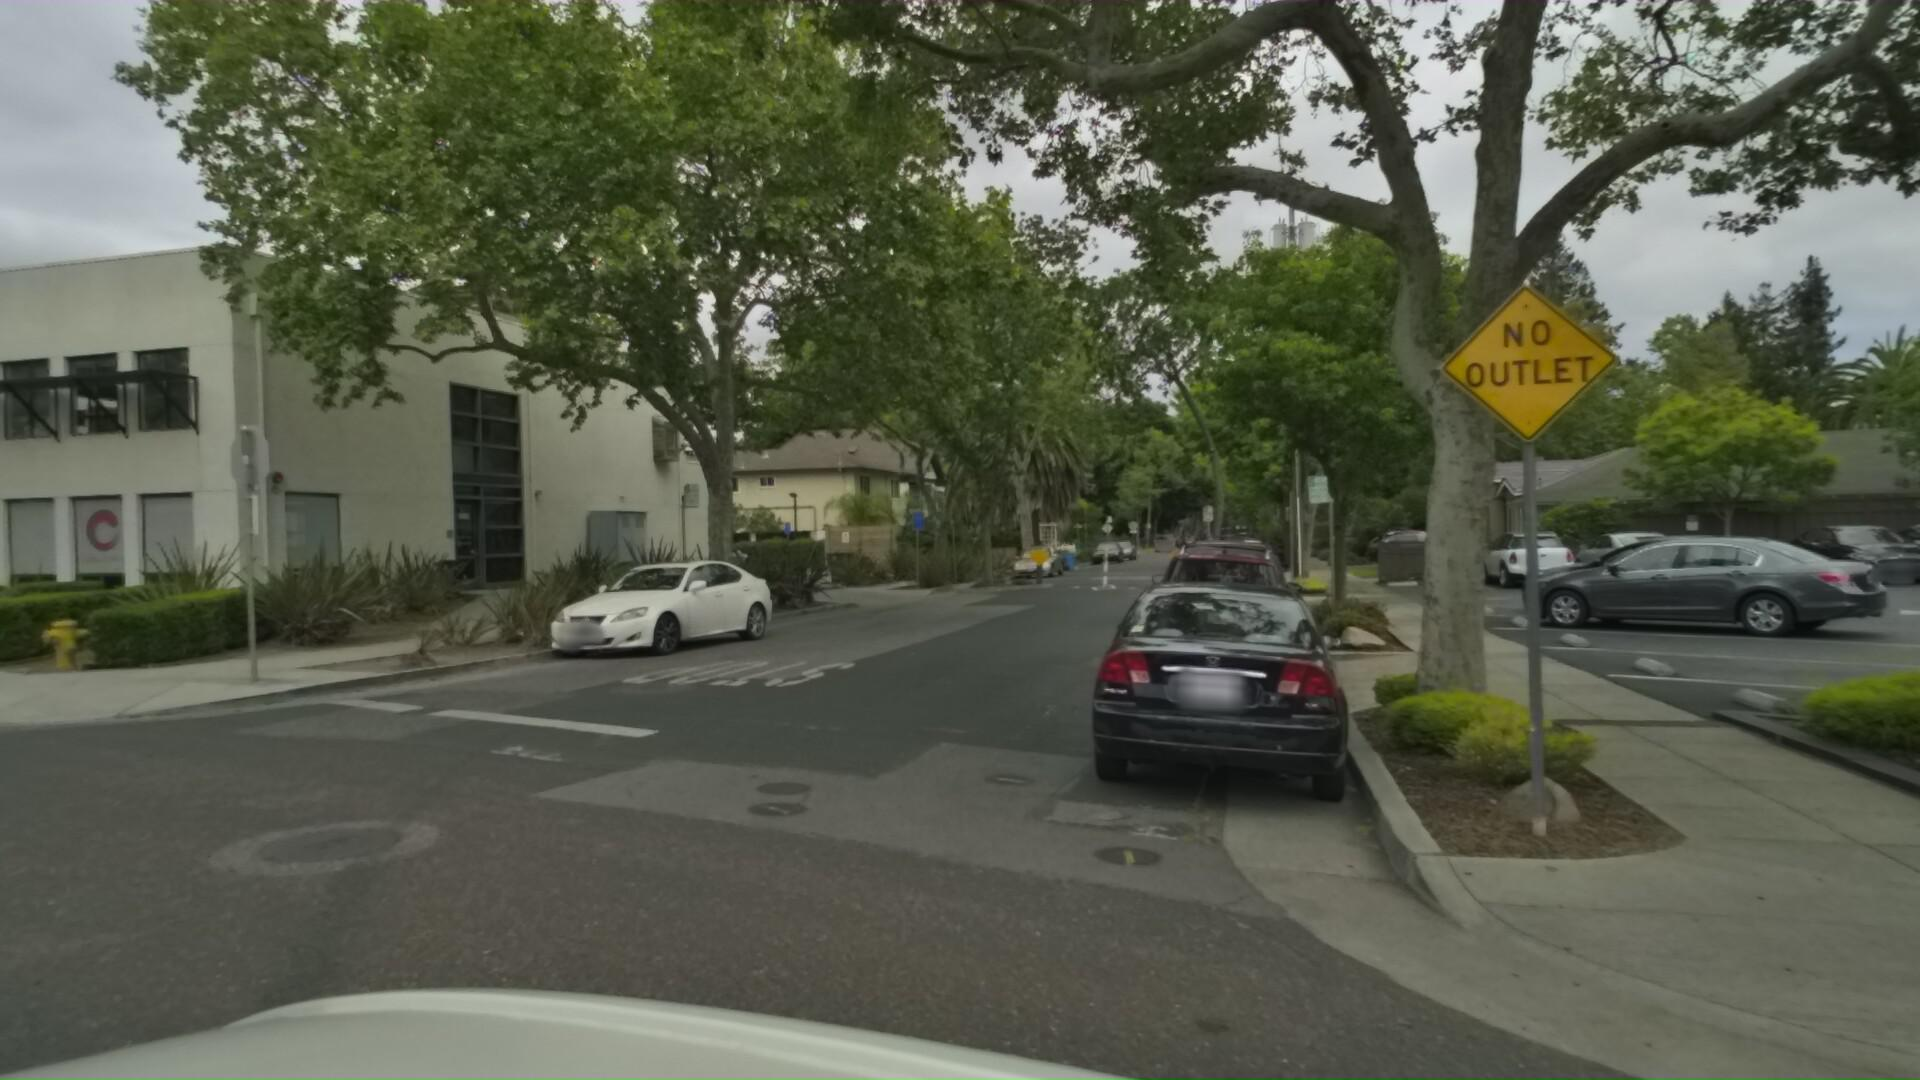car: (1133, 556, 1472, 876), (1519, 524, 1920, 645), (1520, 516, 1890, 628), (1167, 529, 1366, 705), (538, 549, 814, 670), (1189, 525, 1321, 641), (1586, 520, 1717, 585), (1490, 520, 1601, 587), (1369, 518, 1484, 560), (1011, 533, 1083, 579), (1224, 534, 1276, 578), (1055, 529, 1104, 564), (1333, 518, 1400, 542), (1095, 533, 1133, 560), (1108, 533, 1143, 560), (1240, 527, 1269, 555)
